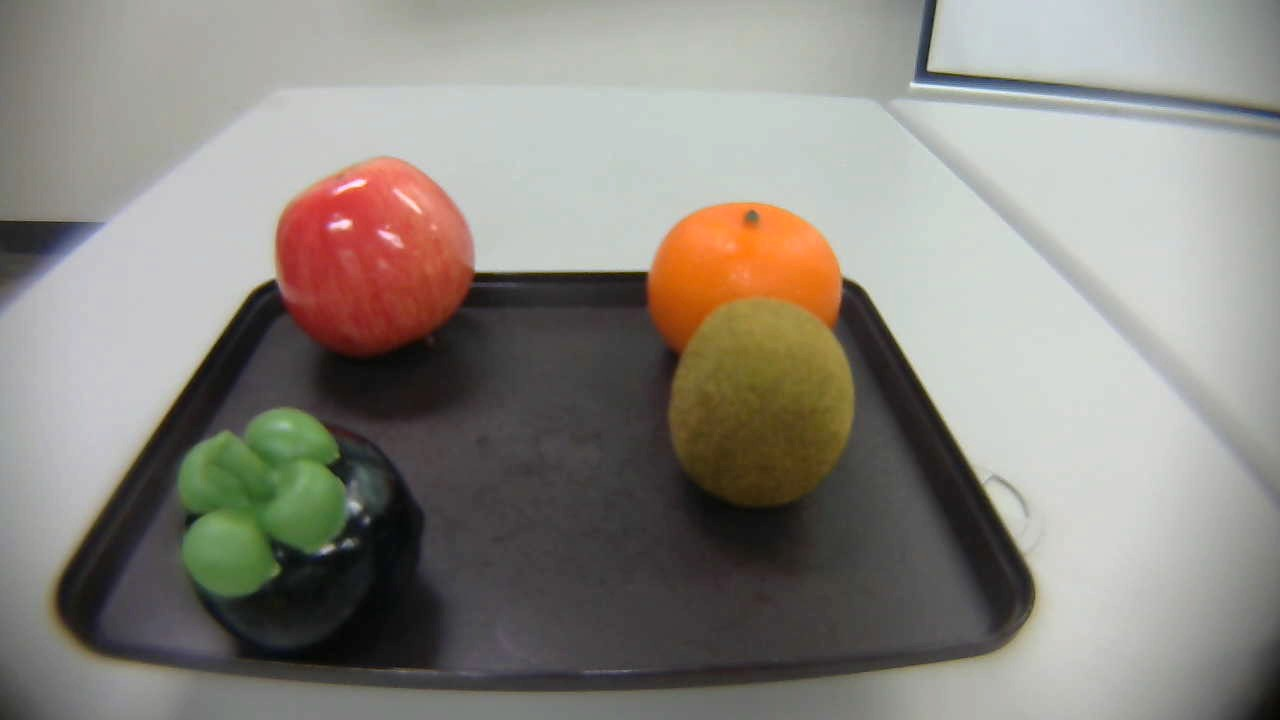kiwi fruit: (670, 304, 857, 508)
mangosteen: (169, 404, 440, 684)
orange: (643, 201, 847, 353)
red apple: (263, 154, 478, 359)
